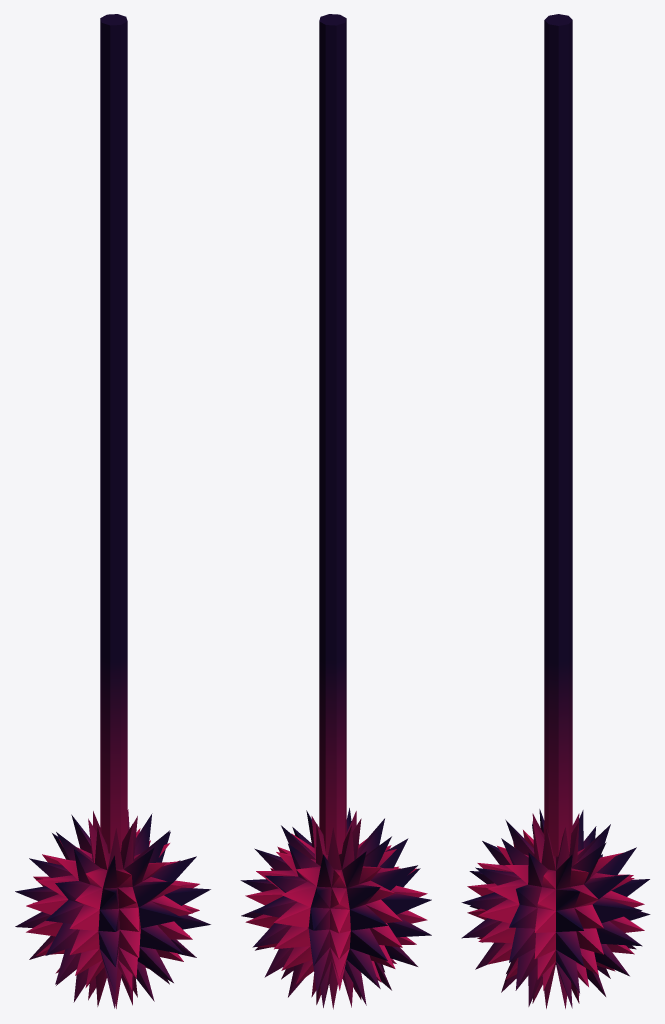
Rendered from oursin_01.fbx.
3 renders of one model, left to right at view 1: azimuth 30°, elevation 25°; view 2: azimuth 150°, elevation 25°; view 3: azimuth 270°, elevation 25°, orthographic.
Parts seen in each view (by area): view 1: polySurface_tige1, polySurface_oursin2_19 (×4), polySurface_oursin2_18 (×3); view 2: polySurface_tige1, polySurface_oursin2_18 (×3), polySurface_oursin2_19 (×3); view 3: polySurface_tige1, polySurface_oursin2_18 (×3), polySurface_oursin2_19 (×3).
Boxes of the visible parts, x1,y1,x2,y2 form: polySurface_tige1: [100, 14, 127, 853]; polySurface_oursin2_19 (×4): [33, 809, 192, 1006]; polySurface_oursin2_18 (×3): [15, 816, 210, 1008]; polySurface_tige1: [319, 14, 346, 854]; polySurface_oursin2_18 (×3): [252, 811, 420, 1007]; polySurface_oursin2_19 (×3): [240, 816, 431, 1009]; polySurface_tige1: [544, 14, 572, 856]; polySurface_oursin2_18 (×3): [467, 813, 644, 1008]; polySurface_oursin2_19 (×3): [461, 813, 650, 1008].
Bounding box in the file's own units: 1.14 × 6.49 × 1.14.
